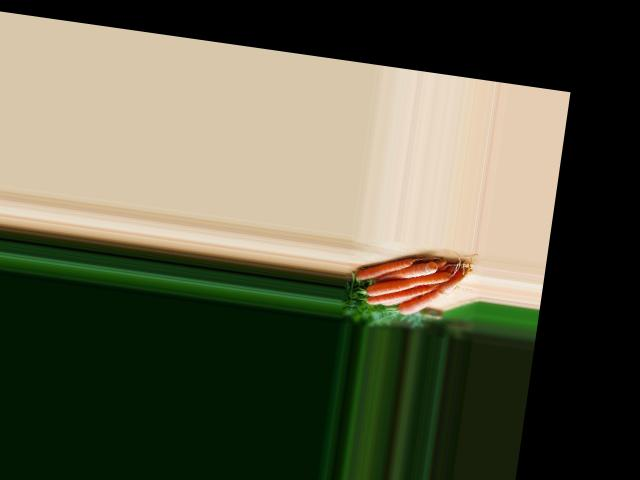carrot: (352, 240, 421, 286)
